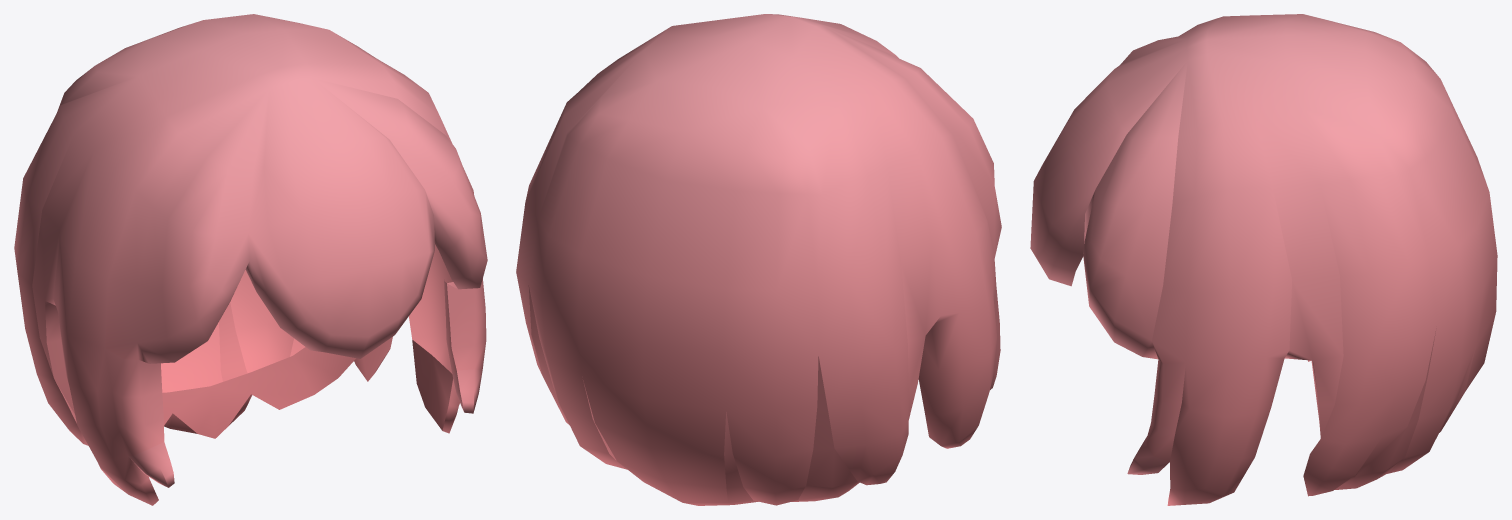
The model's file is Hair_6.fbx.
The picture shows the model from 3 angles, left to right: view 1: azimuth 30°, elevation 25°; view 2: azimuth 150°, elevation 25°; view 3: azimuth 270°, elevation 25°; orthographic projection. The views are drawn at different scales.
Visible parts, largest first — view 1: Hair_6; view 2: Hair_6; view 3: Hair_6.
Boxes of the visible parts, x1,y1,x2,y2 form: Hair_6: [14, 14, 487, 505]; Hair_6: [516, 14, 1001, 505]; Hair_6: [1030, 14, 1497, 505].
Bounding box in the file's own units: 57.6 × 57.33 × 56.46.
